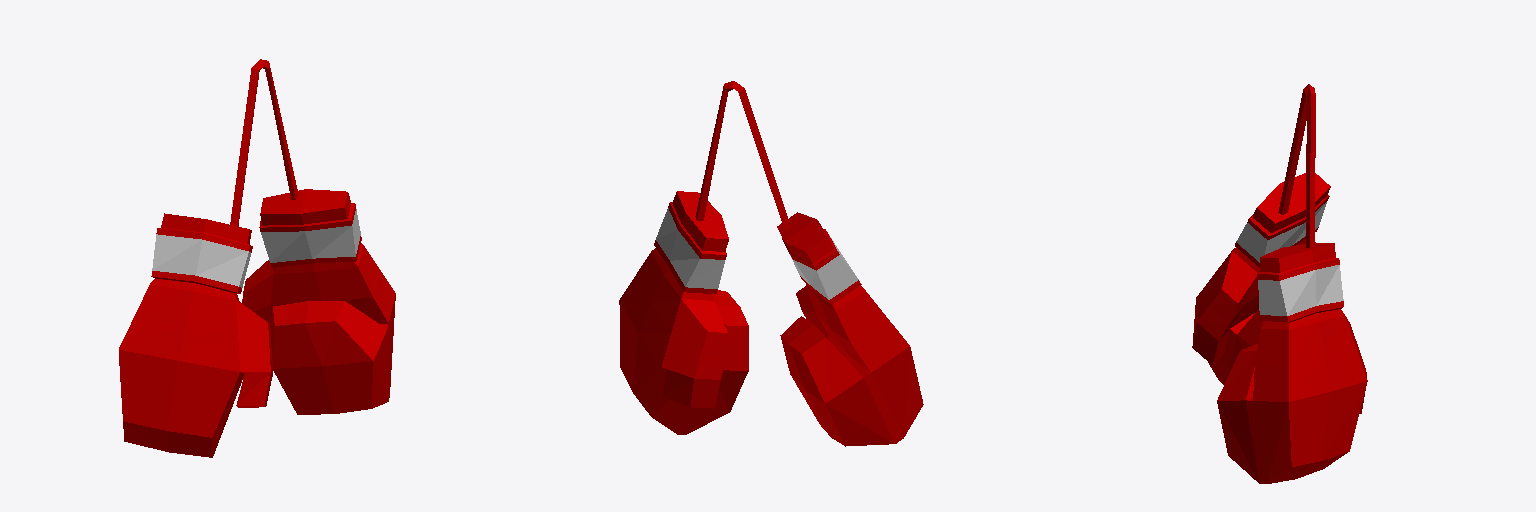
The model's file is PairOfGloves.obj.
3 views of the same model, side by side, from view 1: azimuth 30°, elevation 25°; view 2: azimuth 150°, elevation 25°; view 3: azimuth 270°, elevation 25° (orthographic).
Parts seen in each view (by area): view 1: PairOfGloves_Cube.002; view 2: PairOfGloves_Cube.002; view 3: PairOfGloves_Cube.002.
Part boxes in pixels (x1,y1,x2,y2): PairOfGloves_Cube.002: (119, 59, 395, 457); PairOfGloves_Cube.002: (619, 81, 923, 446); PairOfGloves_Cube.002: (1192, 84, 1367, 483).
Bounding box in the file's own units: 1.38 × 1.66 × 0.7256.